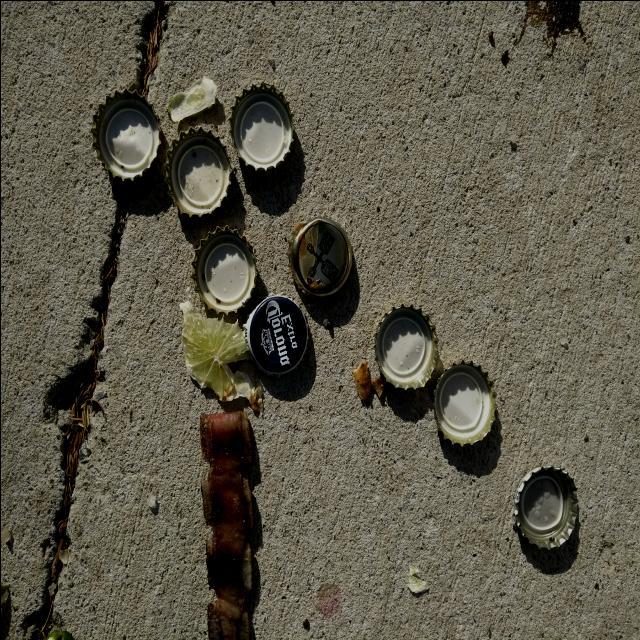Metal bottle cap: (91, 86, 161, 181), (164, 126, 232, 217), (228, 80, 294, 170), (191, 225, 256, 314), (373, 302, 438, 389), (285, 216, 352, 300), (432, 358, 496, 445), (242, 293, 308, 377), (513, 465, 577, 549)
